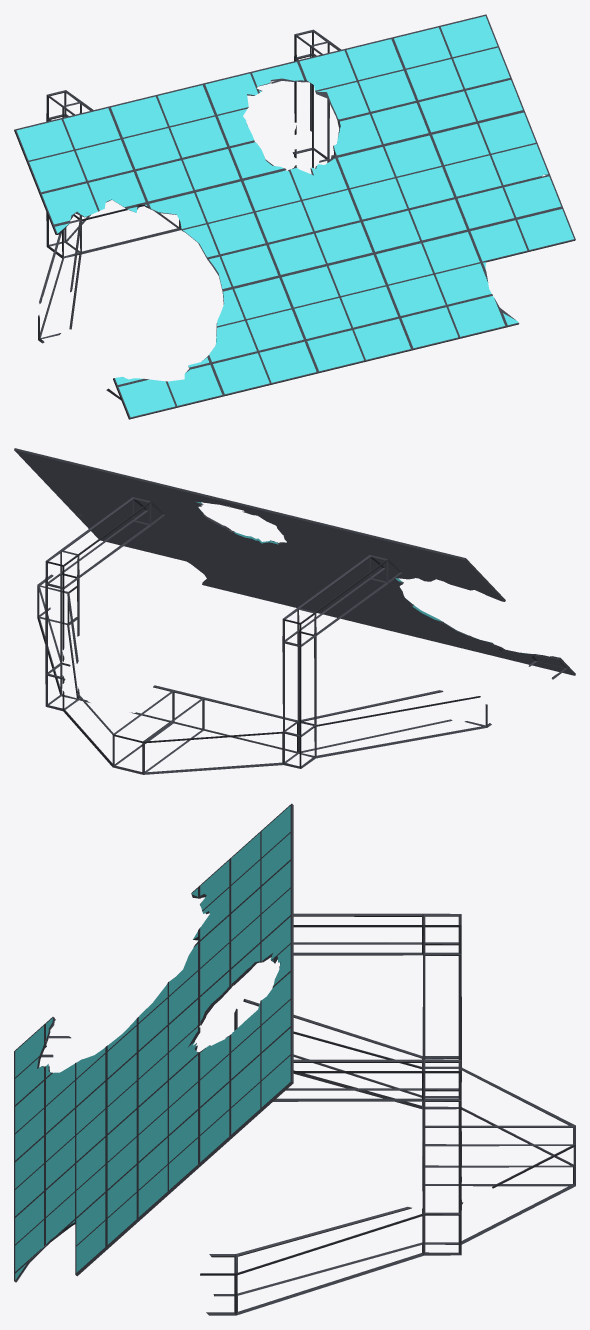
Rendered from SolarPannelArrayBroken.fbx.
3 renders of one model, top to bottom at view 1: azimuth 30°, elevation 25°; view 2: azimuth 150°, elevation 25°; view 3: azimuth 270°, elevation 25°, orthographic. The views are drawn at different scales.
Parts seen in each view (by area): view 1: Cube; view 2: Cube; view 3: Cube.
Boxes of the visible parts, x1,y1,x2,y2 form: Cube: [14, 14, 575, 419]; Cube: [14, 448, 575, 774]; Cube: [14, 803, 575, 1315].
Size of the model in its own units: 2995 by 1254 by 2558.
